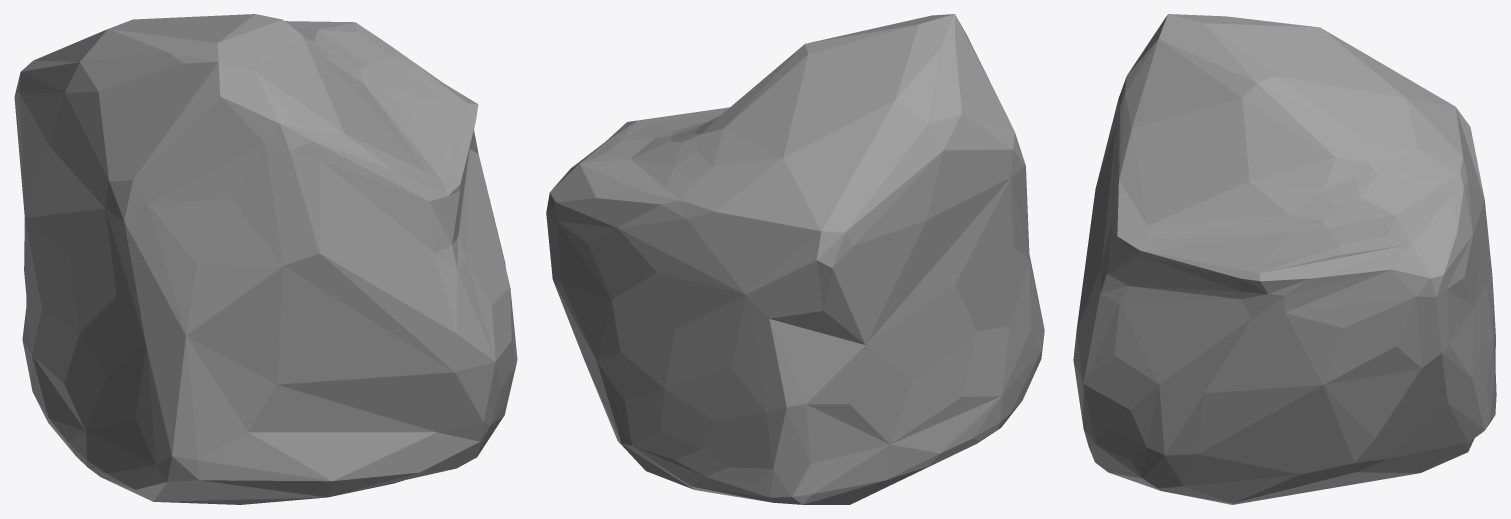
File: Rock_037.fbx
The picture shows the model from 3 angles, left to right: view 1: azimuth 30°, elevation 25°; view 2: azimuth 150°, elevation 25°; view 3: azimuth 270°, elevation 25°; orthographic projection. The views are drawn at different scales.
Visible parts, largest first — view 1: Rock_037; view 2: Rock_037; view 3: Rock_037.
Boxes of the visible parts, x1,y1,x2,y2 form: Rock_037: [14, 14, 517, 504]; Rock_037: [546, 14, 1044, 504]; Rock_037: [1073, 14, 1496, 504].
Size of the model in its own units: 243 by 251 by 254.
1 material, 1 textured.
